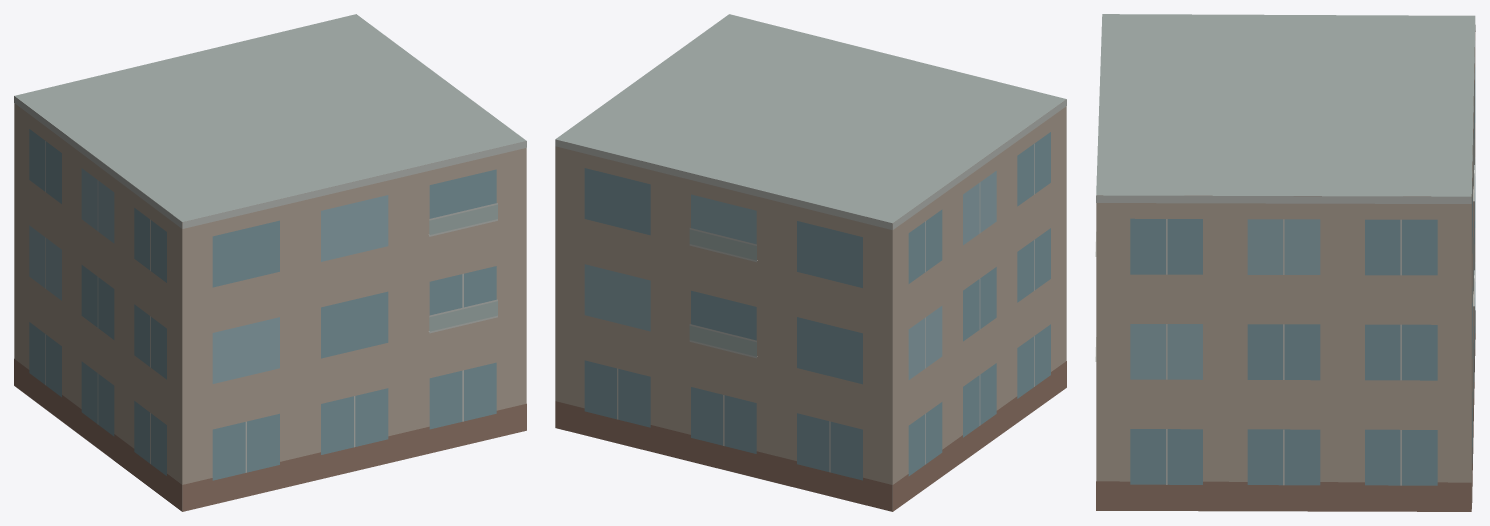
File: survey-upis-32909764.glb
The picture shows the model from 3 angles, left to right: view 1: azimuth 30°, elevation 25°; view 2: azimuth 150°, elevation 25°; view 3: azimuth 270°, elevation 25°; orthographic projection. The views are drawn at different scales.
Visible parts, largest first — view 1: survey-upis-32909764.tmp; view 2: survey-upis-32909764.tmp; view 3: survey-upis-32909764.tmp.
Part boxes in pixels (x1,y1,x2,y2): survey-upis-32909764.tmp: (14,14,526,511); survey-upis-32909764.tmp: (555,14,1066,511); survey-upis-32909764.tmp: (1095,14,1475,511).
Size of the model in its own units: 12.68 by 10.2 by 11.15.
